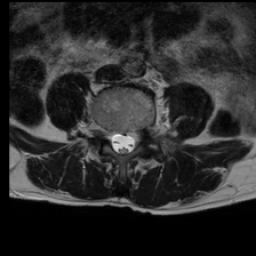CCS_normal: (119, 123, 127, 162)
LFS_normal: (136, 119, 145, 151)
LLS_normal: (127, 123, 136, 157)
RFS_normal: (101, 119, 111, 148)
RLS_normal: (111, 122, 119, 157)
